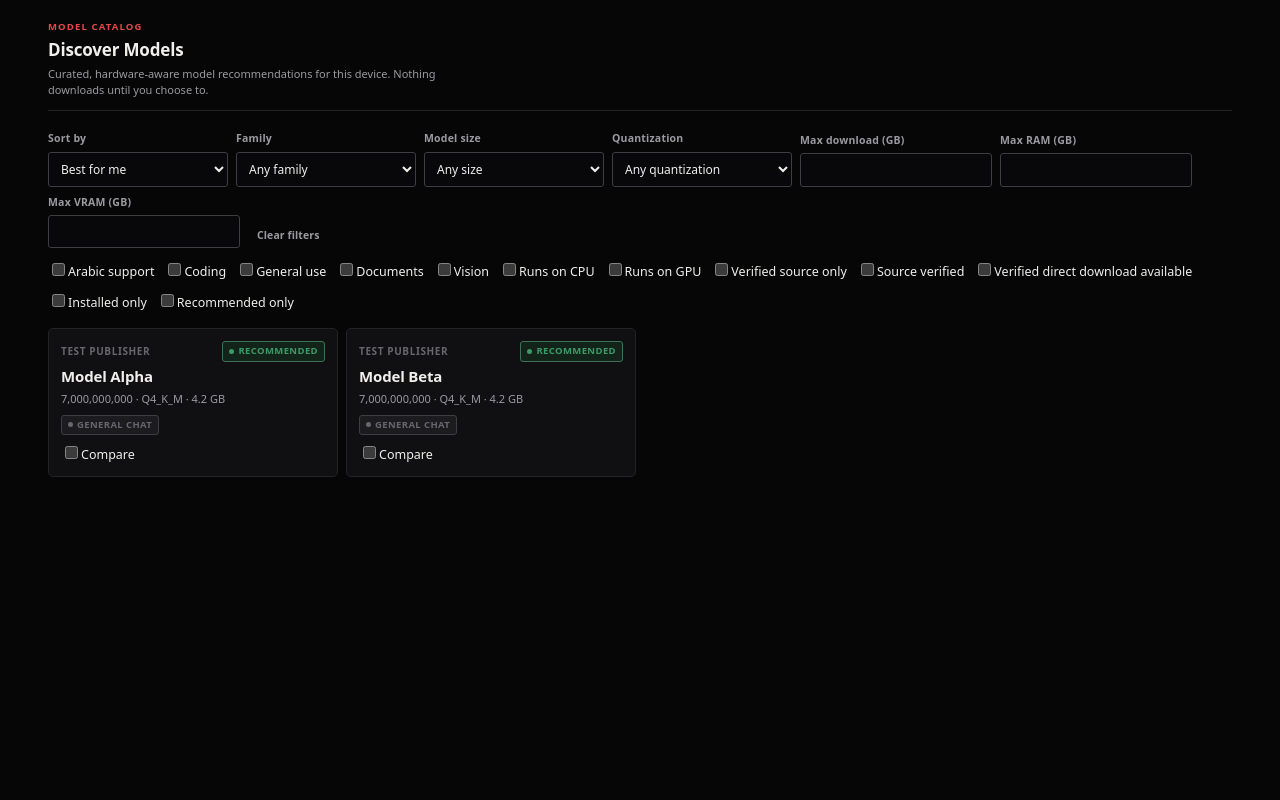
Test case: Discover page — recommendation-engine-v2 integration (Stage B.6) › selecting builds for comparison and opening the compare view shows a side-by-side table
Check: the text "Model Alpha" is shown, box [61,366,153,386]
Click the 1st checkbox labelled "Compare" at (72, 452), box [65,446,78,459]
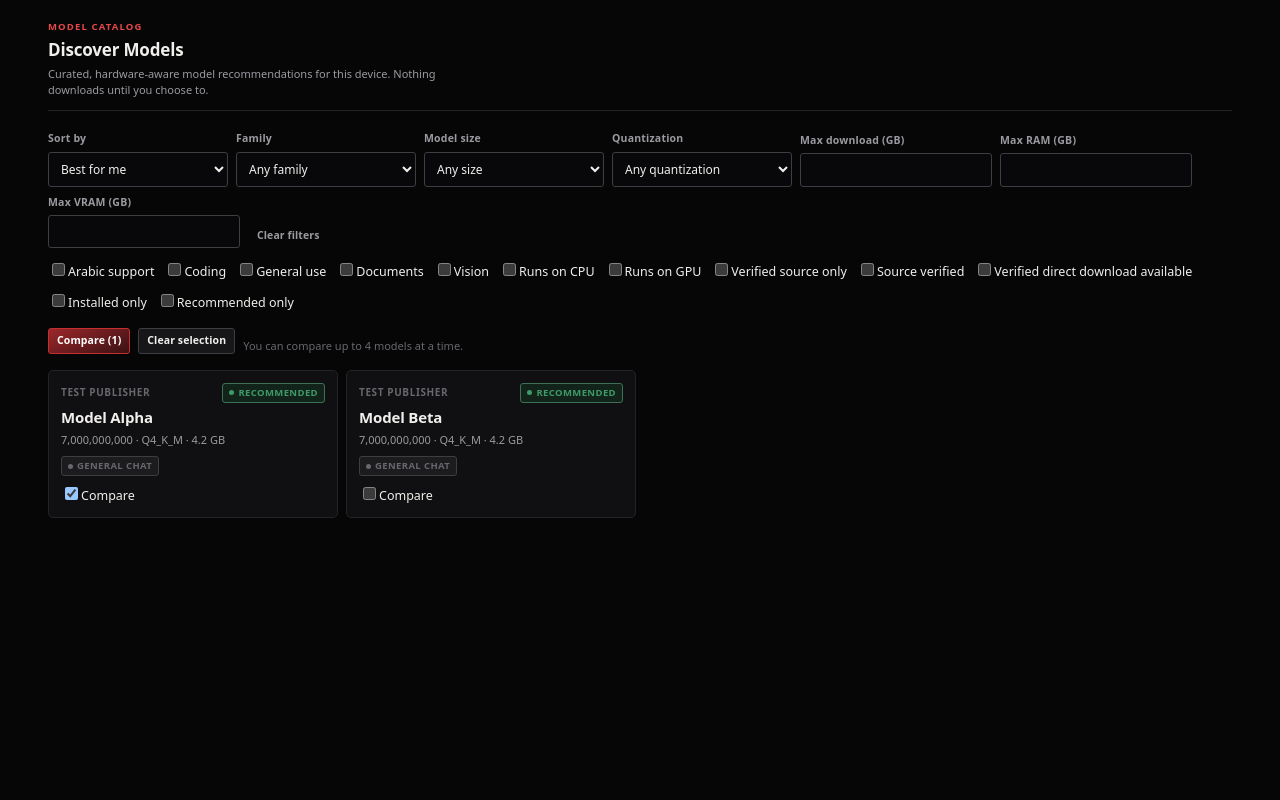
Click the 2nd checkbox labelled "Compare" at (370, 494), box [363,487,376,500]
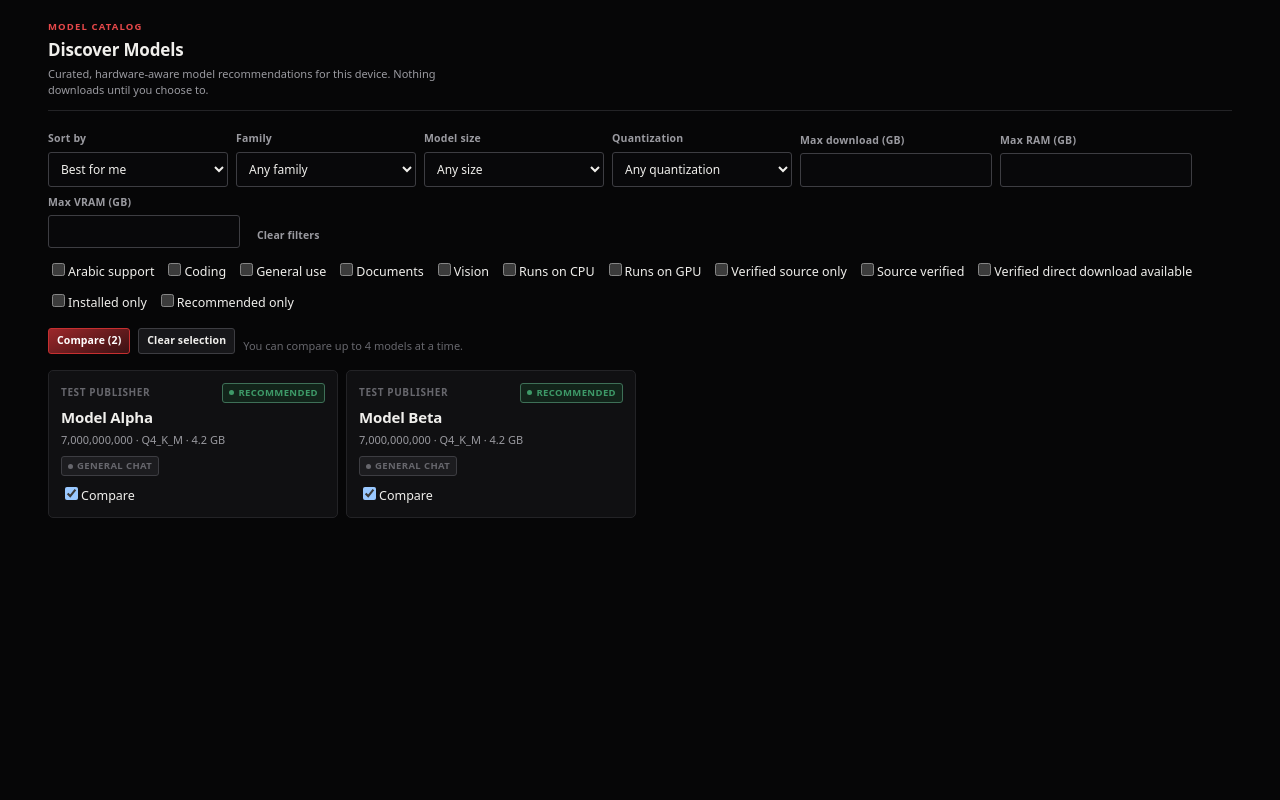
Click the button "Compare (2)" at (89, 341), box [48,328,130,354]
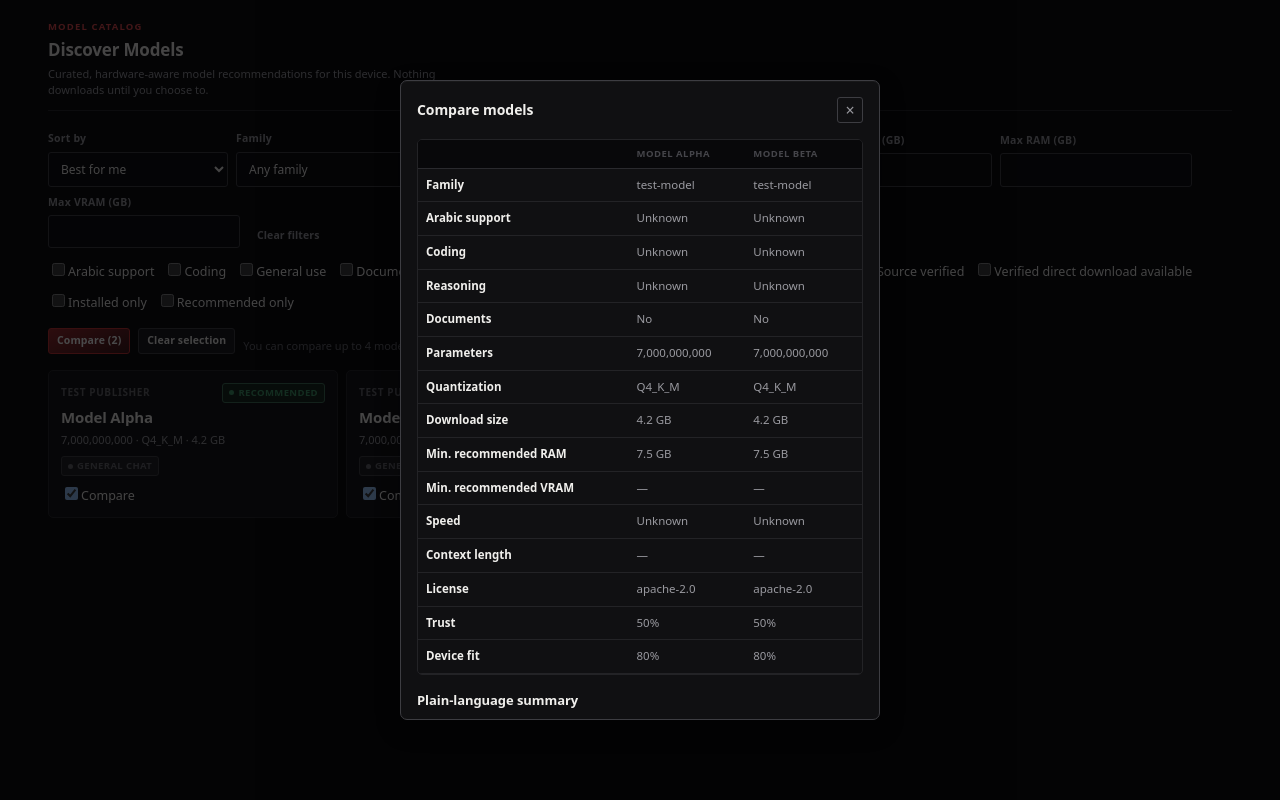
Check: the column heading "Model Alpha" is shown, box [628,140,745,168]
Check: the column heading "Model Beta" is shown, box [745,140,862,168]
